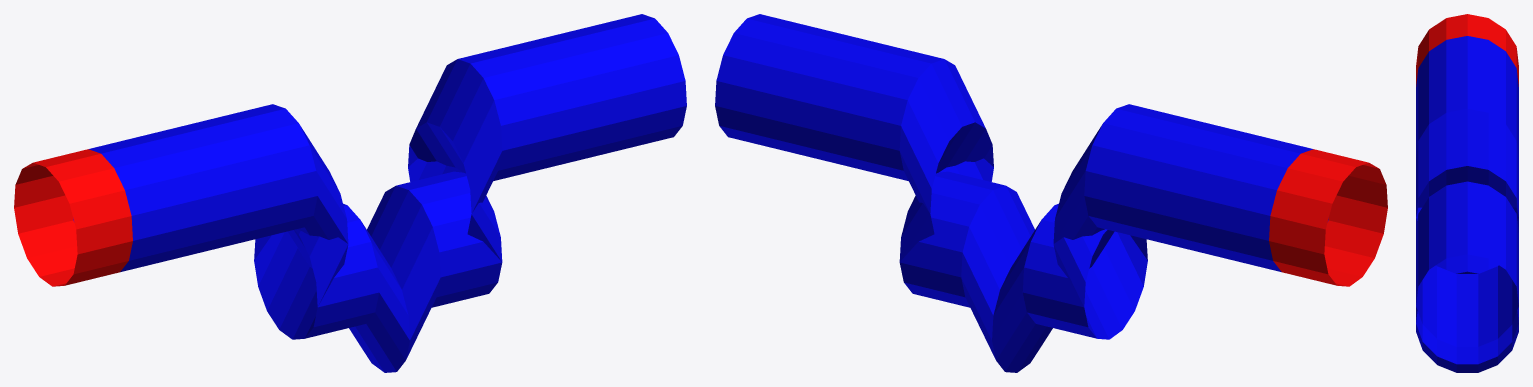
Rendered from Fractal_2_3d.obj.
3 views of the same model, side by side, from view 1: azimuth 30°, elevation 25°; view 2: azimuth 150°, elevation 25°; view 3: azimuth 270°, elevation 25° (orthographic). The views are drawn at different scales.
Parts seen in each view (by area): view 1: material_b, material_r; view 2: material_b, material_r; view 3: material_b, material_r.
Boxes of the visible parts, x1,y1,x2,y2 form: material_b: (73, 14, 686, 372); material_r: (14, 149, 132, 286); material_b: (715, 14, 1328, 372); material_r: (1269, 149, 1387, 286); material_b: (1416, 36, 1518, 372); material_r: (1416, 14, 1518, 86).
Bounding box in the file's own units: 1100 × 486 × 199.
